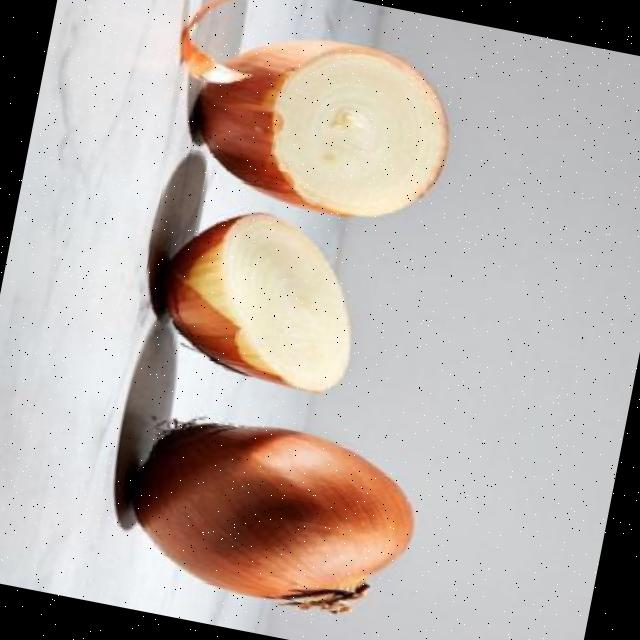Onion: (130, 424, 412, 616)
